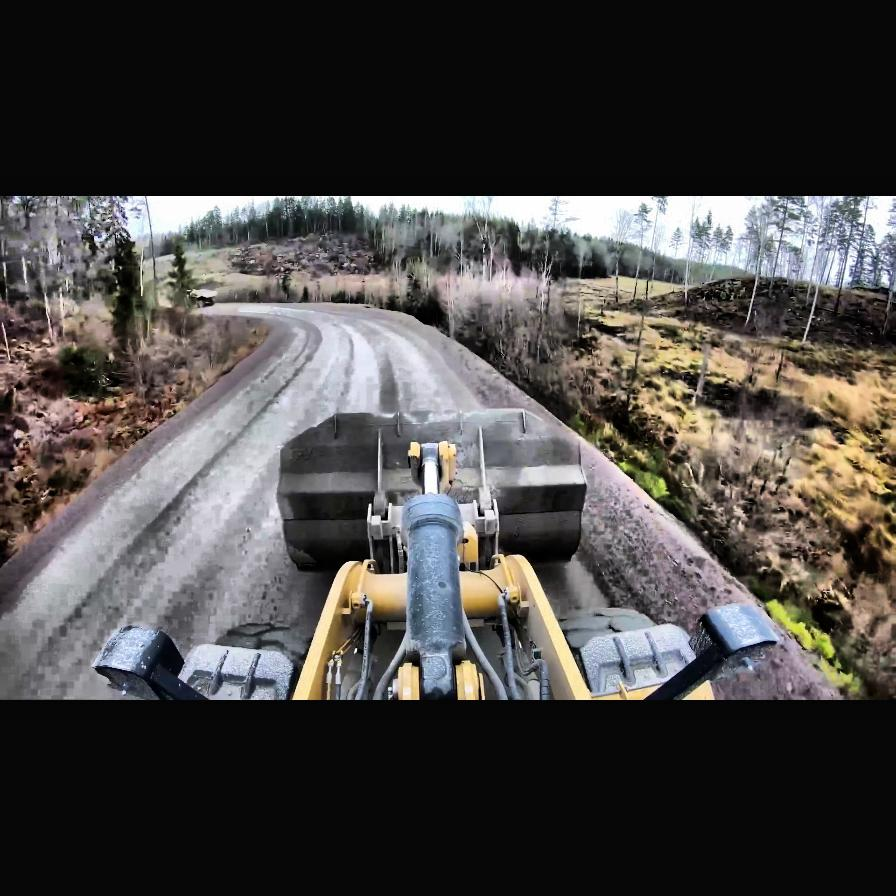anchor: (408, 439, 456, 494)
